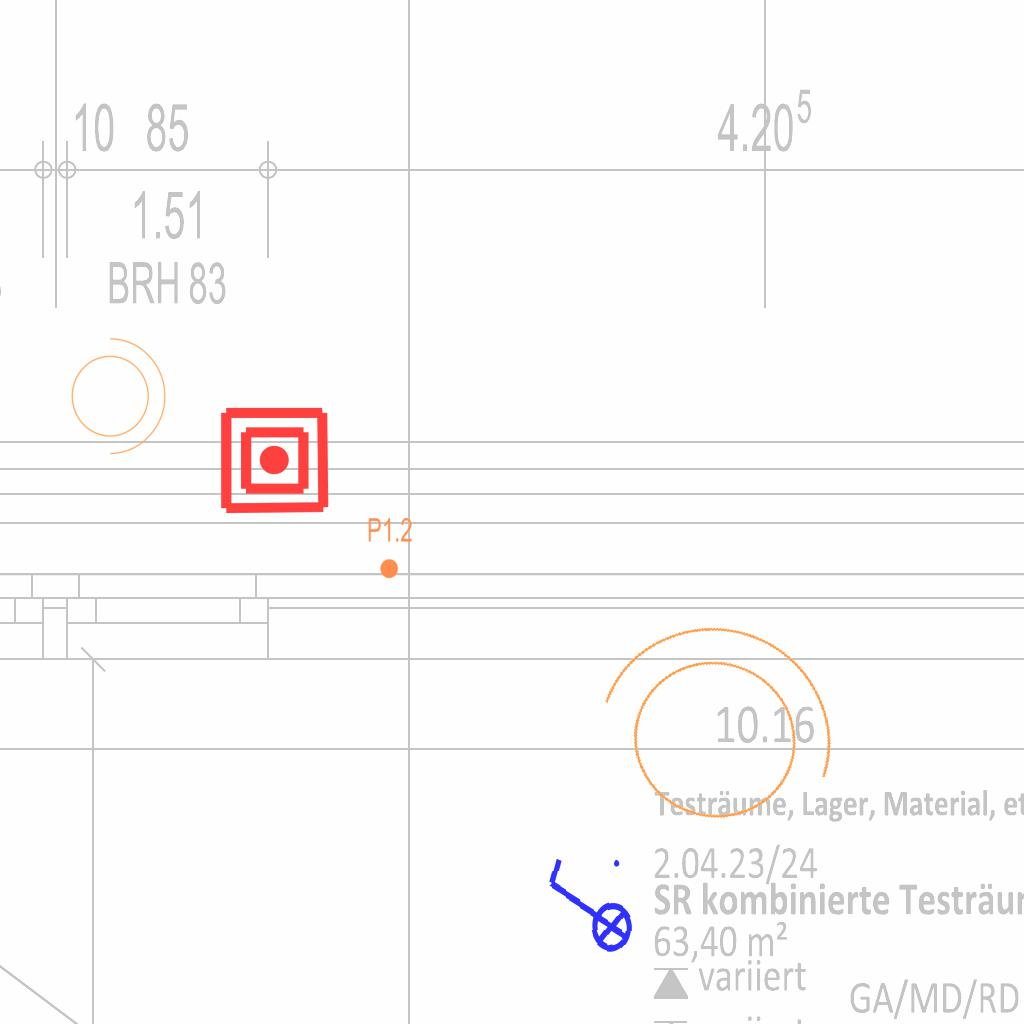Ausschalter_beleuchtet: (535, 848, 639, 968)
Downlight_LED_Einbauleuchten_Flur: (367, 516, 413, 580)
NAM-Nichtautomatischer_Melder: (218, 404, 331, 517)
Scheinwerfer_fuer_Alarmbeleuchtung: (550, 579, 874, 878), (59, 327, 171, 459)
